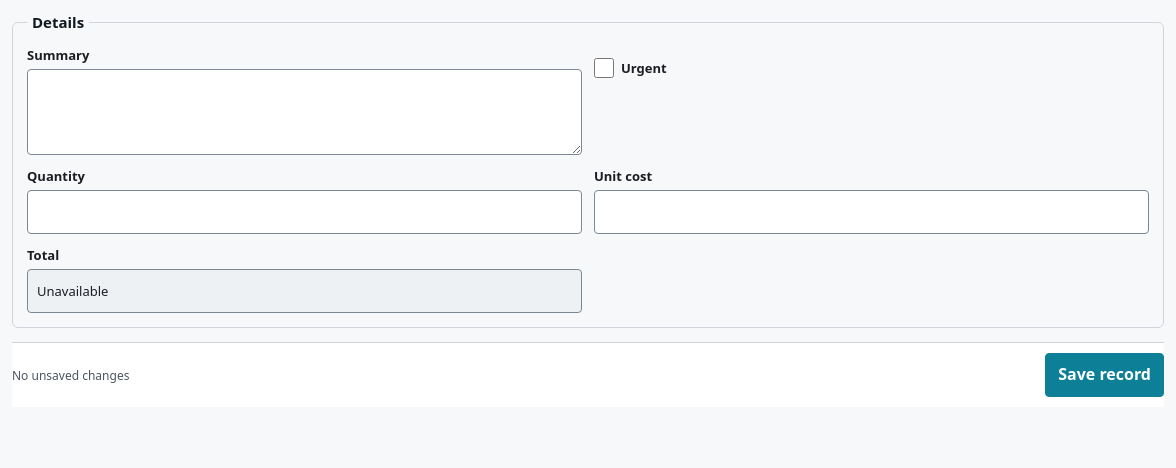
Test: draft hydration and submission truth › shows success and clears draft only after submission resolves
The width and height of the screenshot is (1176, 468).
In the text box labelled "Summary": (304, 112) [27,69,582,155], type "Generator request"
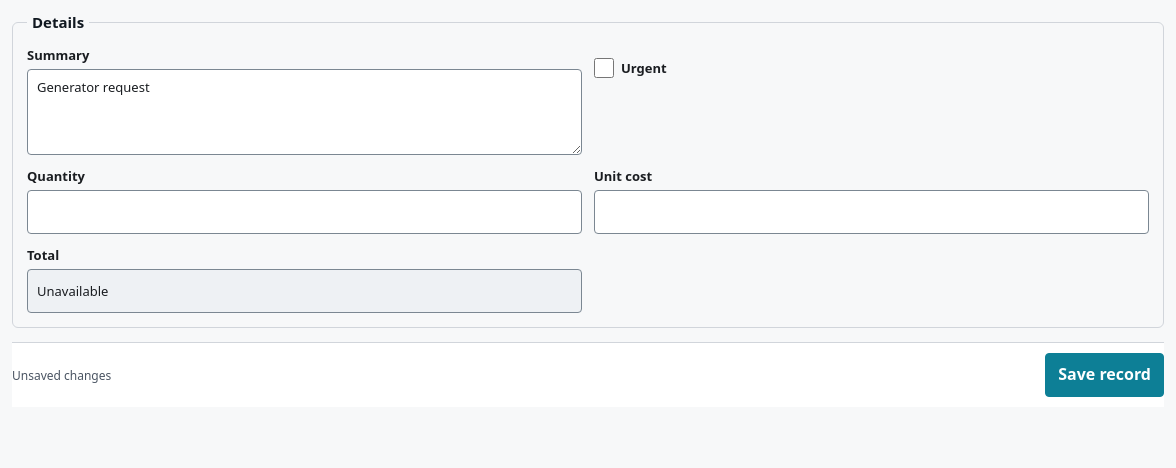
In the number field labelled "Quantity": (304, 212) [27,190,582,234], type "4"
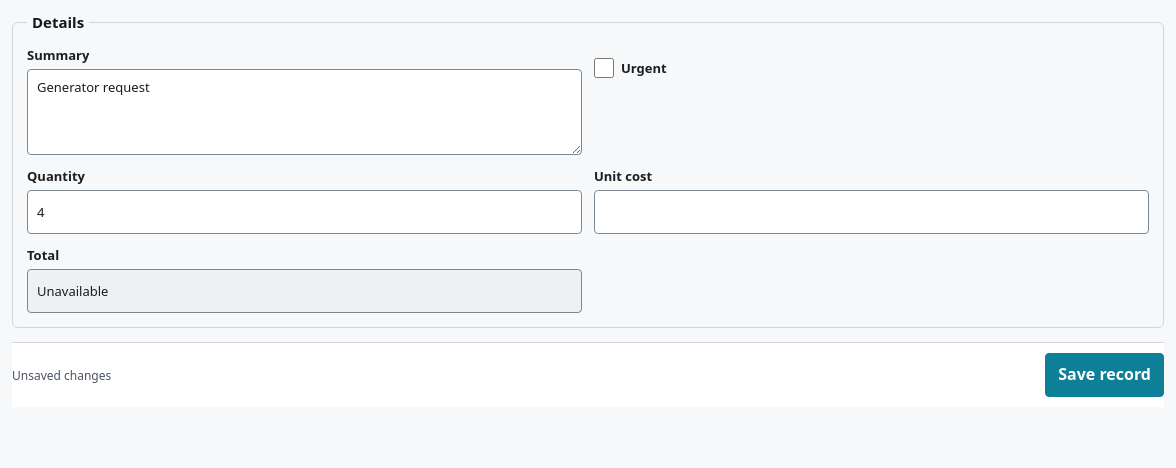
Click the button "Save record": (1105, 375) [1045,353,1164,397]
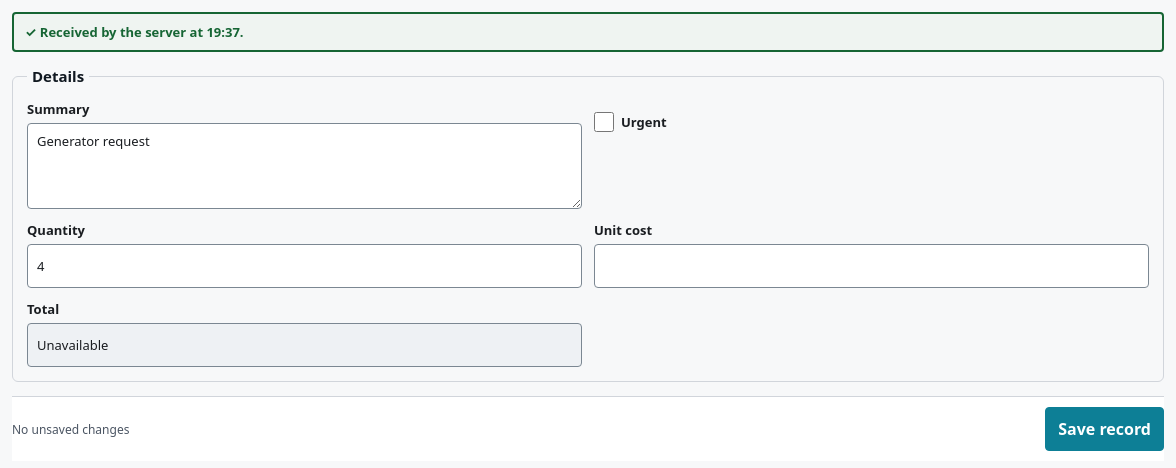
Expected: the text "Received by the server at 19:37." is shown, [12,12,1164,52]
